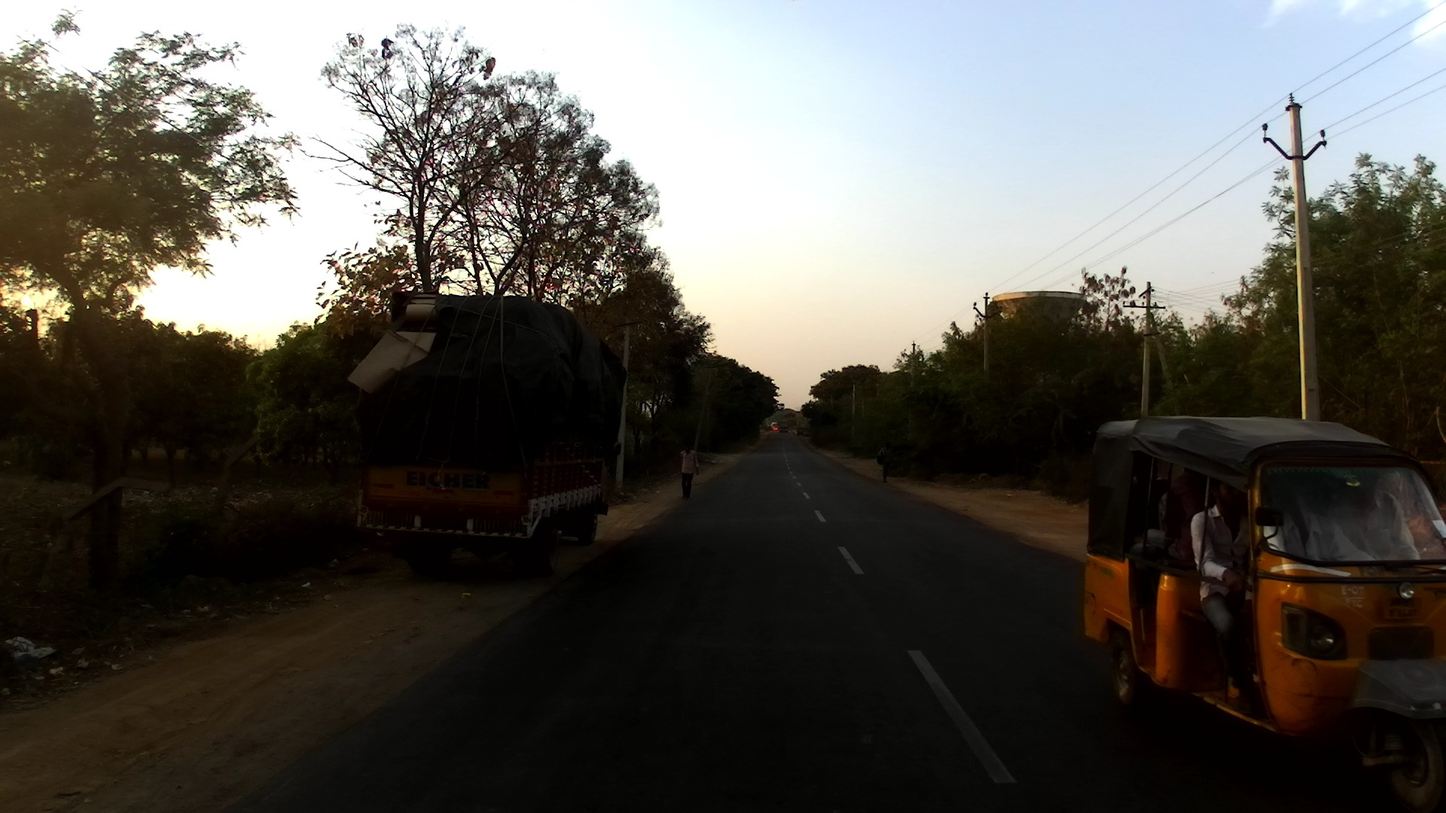autorickshaw: (1077, 414, 1445, 812), (800, 425, 810, 440)
person: (676, 440, 701, 503), (874, 445, 894, 484)
truck: (346, 290, 627, 579), (777, 419, 792, 435), (795, 425, 804, 435)
vehicle fallback: (770, 423, 779, 434)
